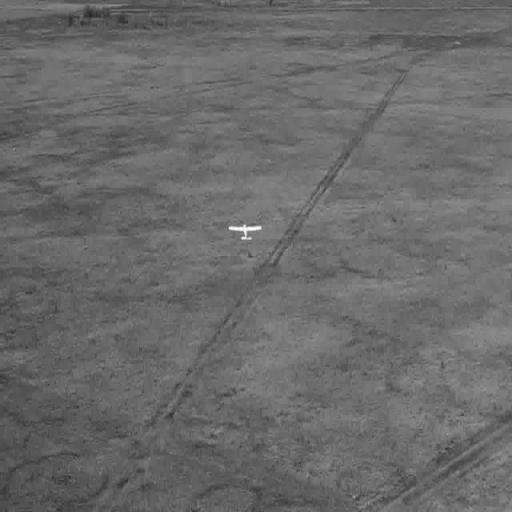uav: (226, 216, 264, 250)
